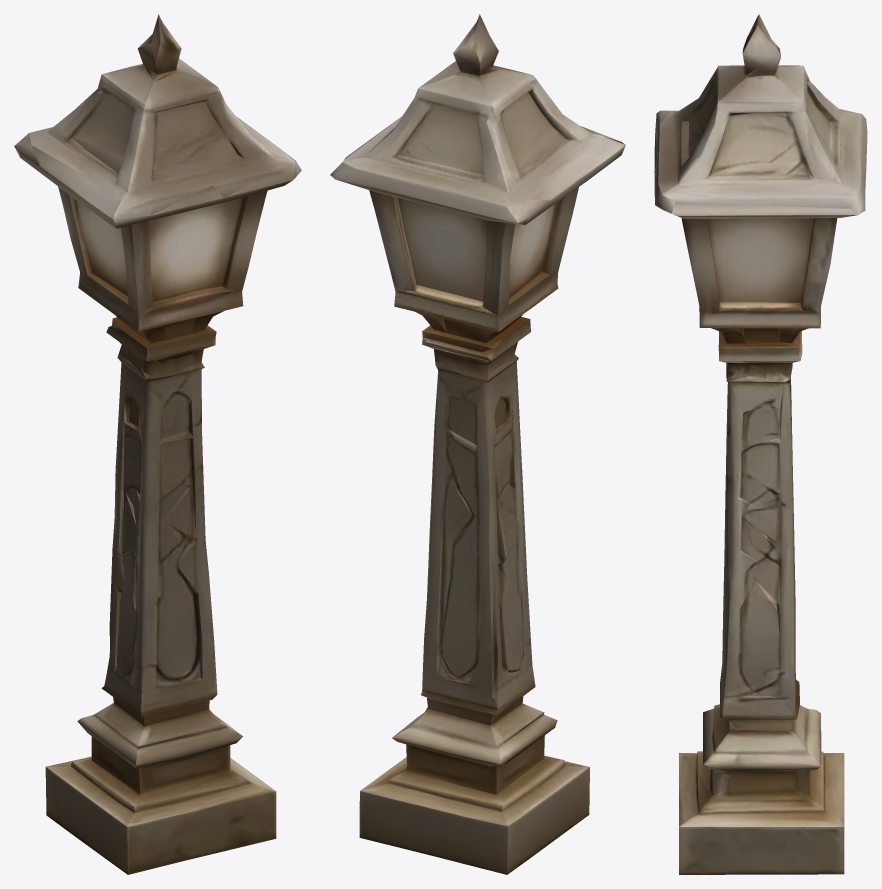
Rendered from m2ColorBeacon.glb.
The picture shows the model from 3 angles, left to right: view 1: azimuth 30°, elevation 25°; view 2: azimuth 150°, elevation 25°; view 3: azimuth 270°, elevation 25°; orthographic projection.
Parts seen in each view (by area): view 1: model; view 2: model; view 3: model.
Boxes of the visible parts, box(x1,y1,x2,y2) form: model: box(14, 14, 301, 874); model: box(330, 14, 625, 874); model: box(654, 14, 867, 874).
Bounding box in the file's own units: 0.4849 × 1.91 × 0.448.
Materials: 1 (1 with a texture image).
